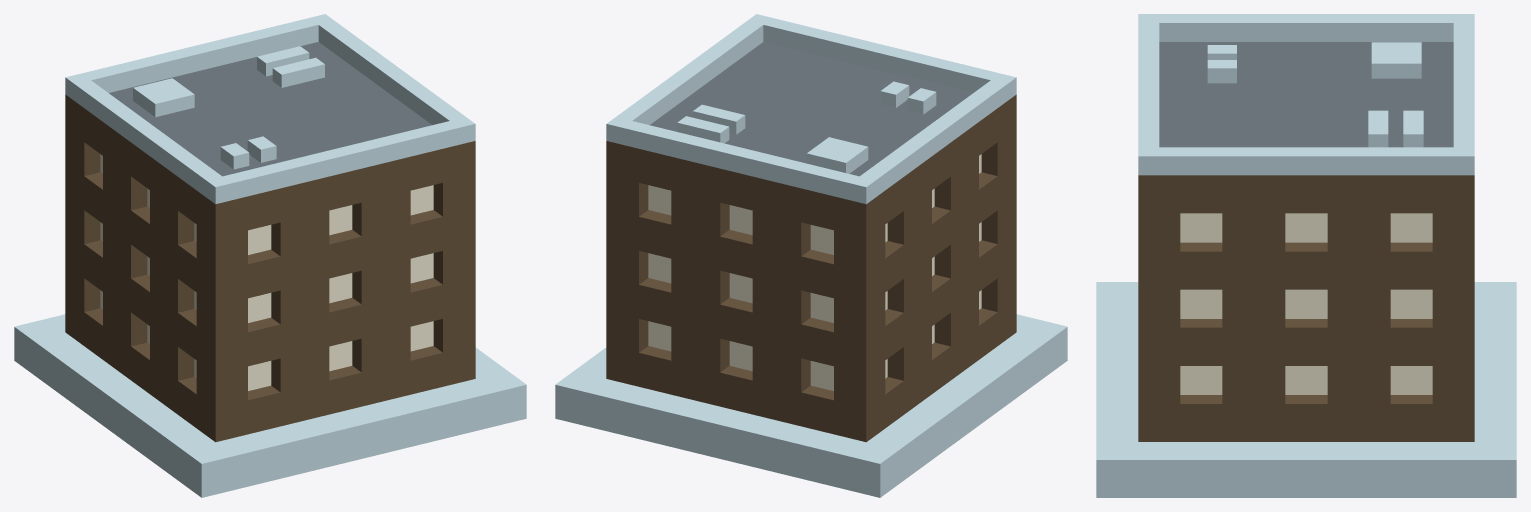
The model's file is Building_2_Base_Extra (Brown).obj.
The picture shows the model from 3 angles, left to right: view 1: azimuth 30°, elevation 25°; view 2: azimuth 150°, elevation 25°; view 3: azimuth 270°, elevation 25°; orthographic projection. The views are drawn at different scales.
Visible parts, largest first — view 1: Building_2_Base_Extra_(Brown); view 2: Building_2_Base_Extra_(Brown); view 3: Building_2_Base_Extra_(Brown).
Boxes of the visible parts, x1=… form: Building_2_Base_Extra_(Brown): x1=14, y1=14, x2=526, y2=497; Building_2_Base_Extra_(Brown): x1=555, y1=14, x2=1067, y2=497; Building_2_Base_Extra_(Brown): x1=1096, y1=14, x2=1516, y2=497.
Bounding box in the file's own units: 2 × 1.7 × 2.
